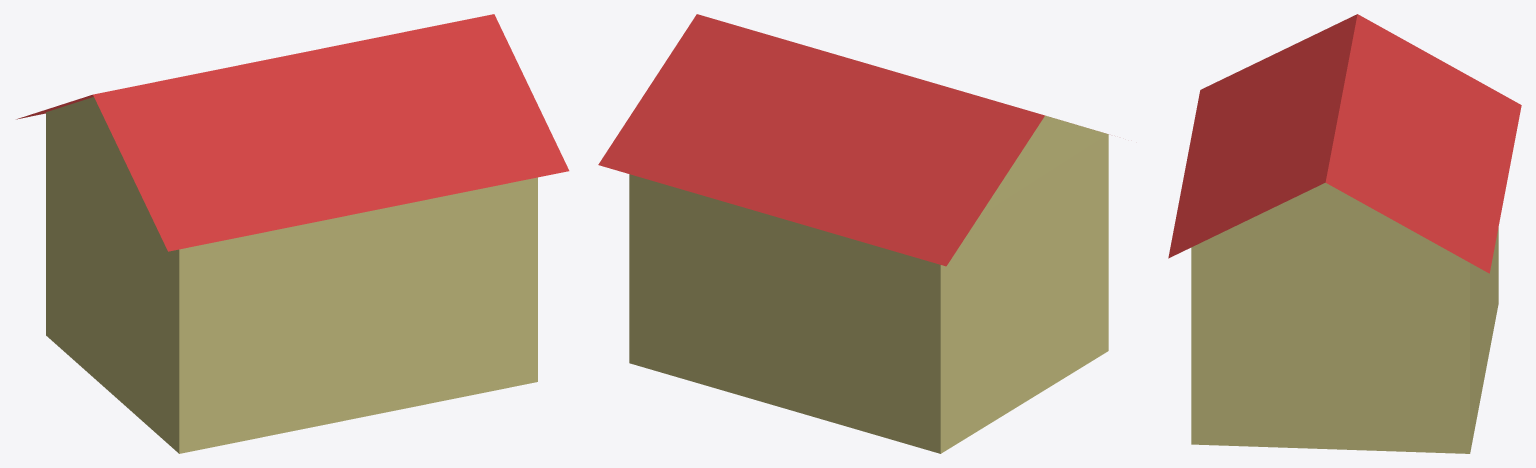
3 views of the same model, side by side, from view 1: azimuth 30°, elevation 25°; view 2: azimuth 150°, elevation 25°; view 3: azimuth 270°, elevation 25° (orthographic). The views are drawn at different scales.
Size of the model in its own units: 14.93 by 12.42 by 10.68.
